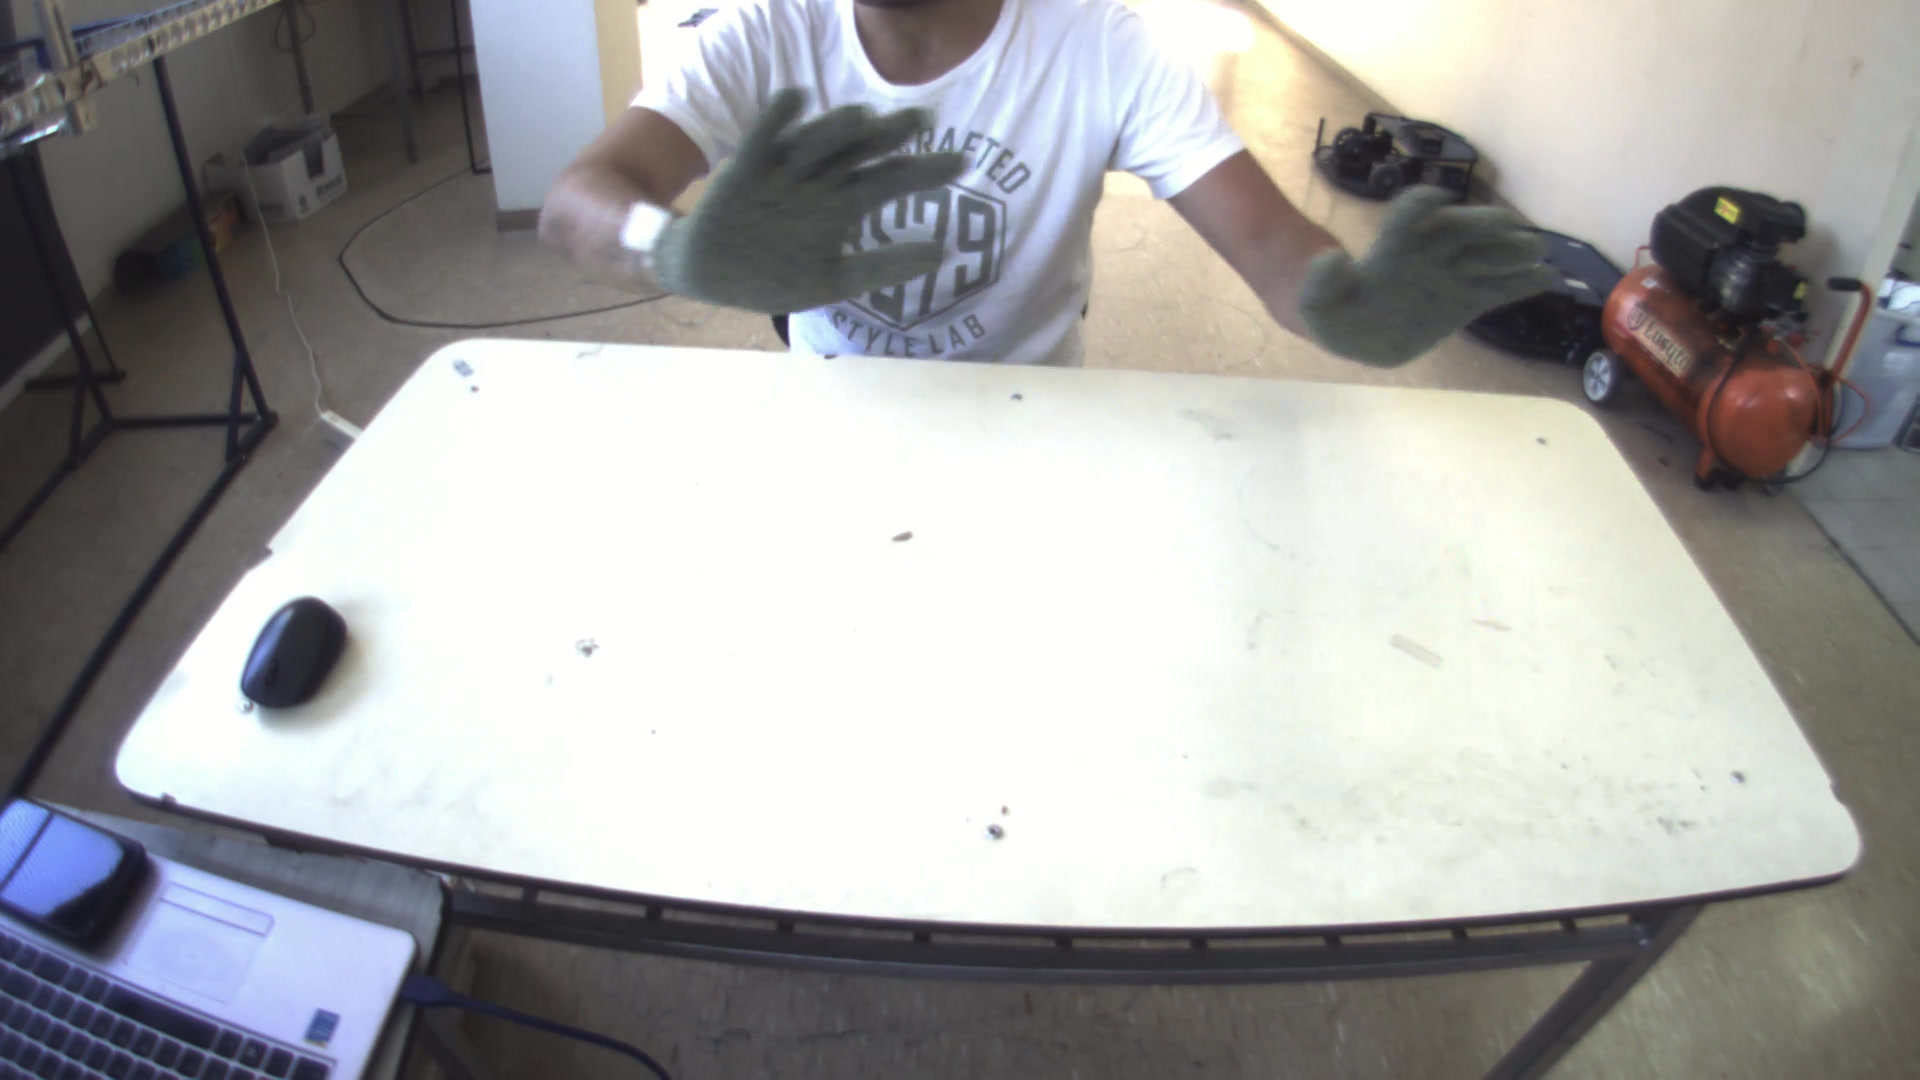hand: (655, 73, 985, 319), (1303, 175, 1577, 364)
